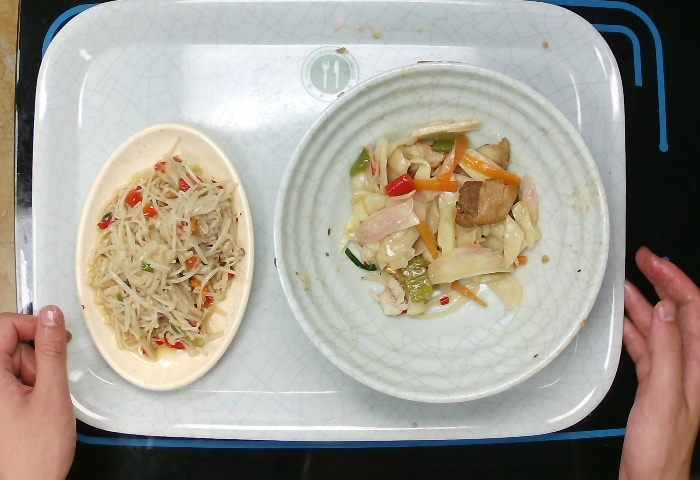JYsf-Da_Tang_Wan: (269, 58, 614, 408)
JYsf-Tuo_Yuan_Wan: (69, 118, 259, 398)
